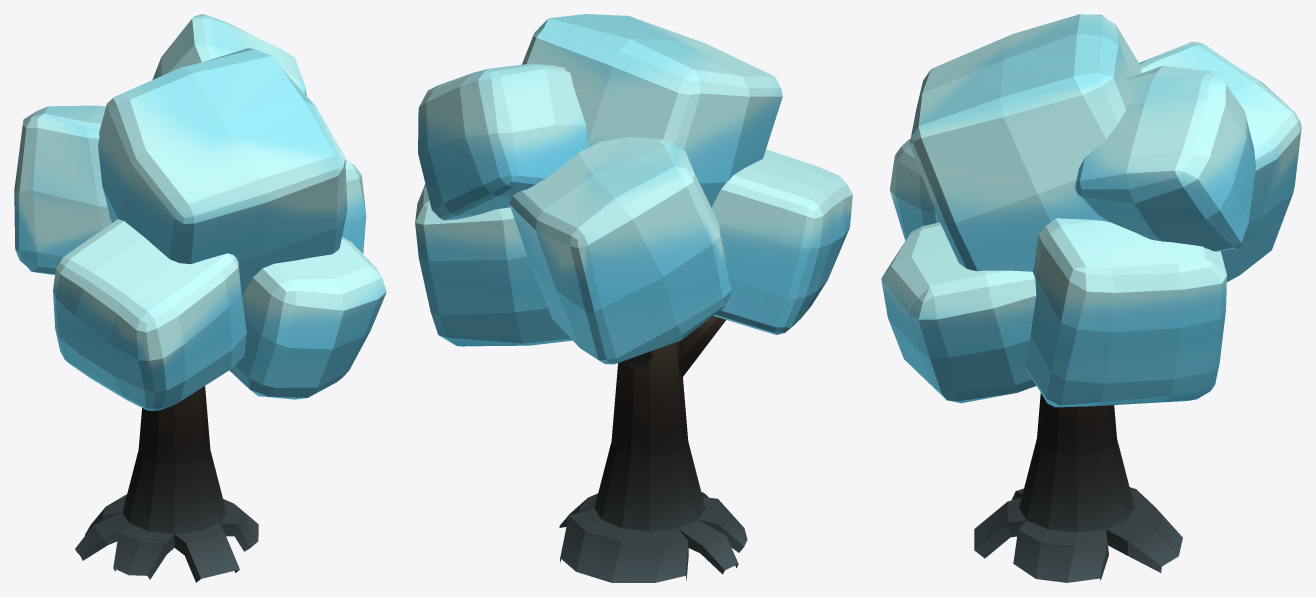
Rendered from Tree_Cube_Winter_Alt.fbx.
The picture shows the model from 3 angles, left to right: view 1: azimuth 30°, elevation 25°; view 2: azimuth 150°, elevation 25°; view 3: azimuth 270°, elevation 25°; orthographic projection. The views are drawn at different scales.
Visible parts, largest first — view 1: Tree_Cube_Winter_Alt; view 2: Tree_Cube_Winter_Alt; view 3: Tree_Cube_Winter_Alt.
Boxes of the visible parts, <box> form: Tree_Cube_Winter_Alt: <box>14,14,386,582</box>; Tree_Cube_Winter_Alt: <box>415,14,852,582</box>; Tree_Cube_Winter_Alt: <box>881,14,1301,582</box>.
Bounding box in the file's own units: 270 × 367 × 267.
